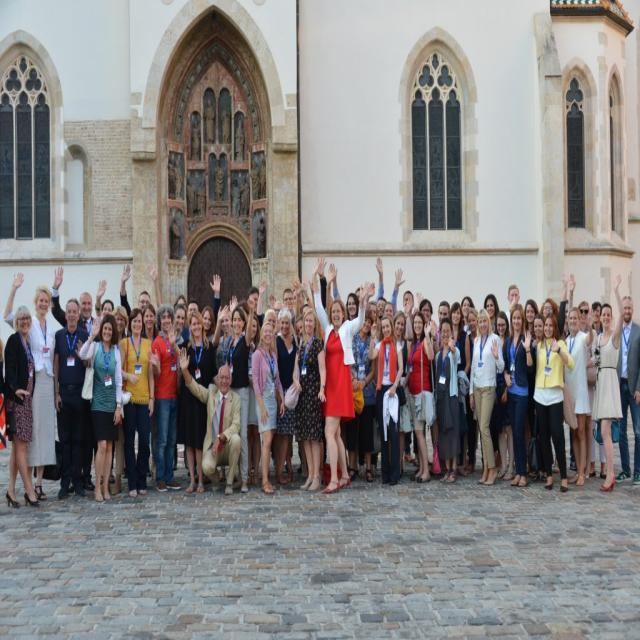body: (167, 98, 267, 259), (310, 259, 372, 495), (2, 269, 58, 503), (177, 346, 242, 496), (167, 310, 217, 494), (78, 312, 124, 503), (283, 307, 327, 493), (53, 296, 93, 498), (3, 304, 42, 510), (532, 312, 576, 494), (116, 306, 156, 499), (500, 301, 538, 488), (594, 272, 625, 494), (146, 304, 182, 494), (467, 306, 505, 486), (567, 272, 598, 482), (250, 319, 286, 496), (368, 314, 404, 487), (343, 307, 378, 483), (563, 304, 596, 487), (226, 294, 256, 494), (294, 311, 328, 485), (406, 309, 438, 484), (612, 292, 639, 487), (433, 316, 461, 484), (274, 307, 300, 486), (448, 301, 472, 478), (492, 310, 516, 481), (49, 264, 98, 342), (504, 284, 524, 470), (358, 298, 378, 478), (391, 308, 412, 478), (528, 312, 548, 483), (462, 306, 480, 477), (246, 312, 263, 489), (179, 273, 221, 344), (588, 299, 604, 482), (328, 255, 384, 305), (562, 298, 578, 472), (119, 262, 151, 338), (326, 266, 368, 322), (94, 278, 129, 343), (540, 266, 570, 339), (524, 298, 539, 439), (149, 264, 187, 318), (255, 276, 287, 337), (215, 294, 239, 372), (381, 296, 415, 342), (201, 303, 230, 349), (389, 266, 415, 316), (418, 298, 440, 356), (428, 299, 451, 352), (260, 307, 280, 362), (292, 276, 318, 316), (482, 292, 502, 337), (315, 254, 329, 314), (140, 303, 159, 345), (0, 336, 7, 449), (230, 298, 252, 330), (461, 295, 476, 335), (291, 286, 305, 328), (282, 287, 296, 327), (247, 286, 260, 314), (272, 299, 286, 321), (101, 298, 115, 319), (173, 293, 188, 312), (376, 296, 388, 319)
